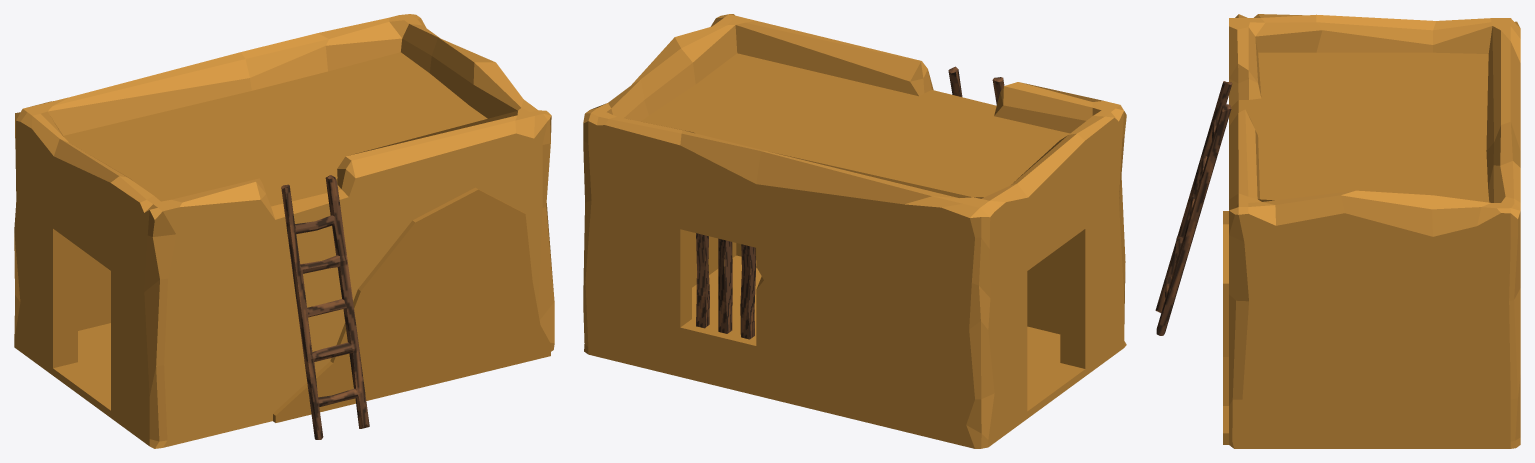
Rendered from Building_M4.fbx.
The picture shows the model from 3 angles, left to right: view 1: azimuth 30°, elevation 25°; view 2: azimuth 150°, elevation 25°; view 3: azimuth 270°, elevation 25°; orthographic projection.
Parts seen in each view (by area): view 1: Building 2; view 2: Building 2; view 3: Building 2.
Part boxes in pixels (box(x1,y1,x2,y2)): Building 2: box(14, 14, 554, 448); Building 2: box(583, 14, 1126, 448); Building 2: box(1155, 14, 1520, 448).
Size of the model in its own units: 160 by 95.08 by 125.
